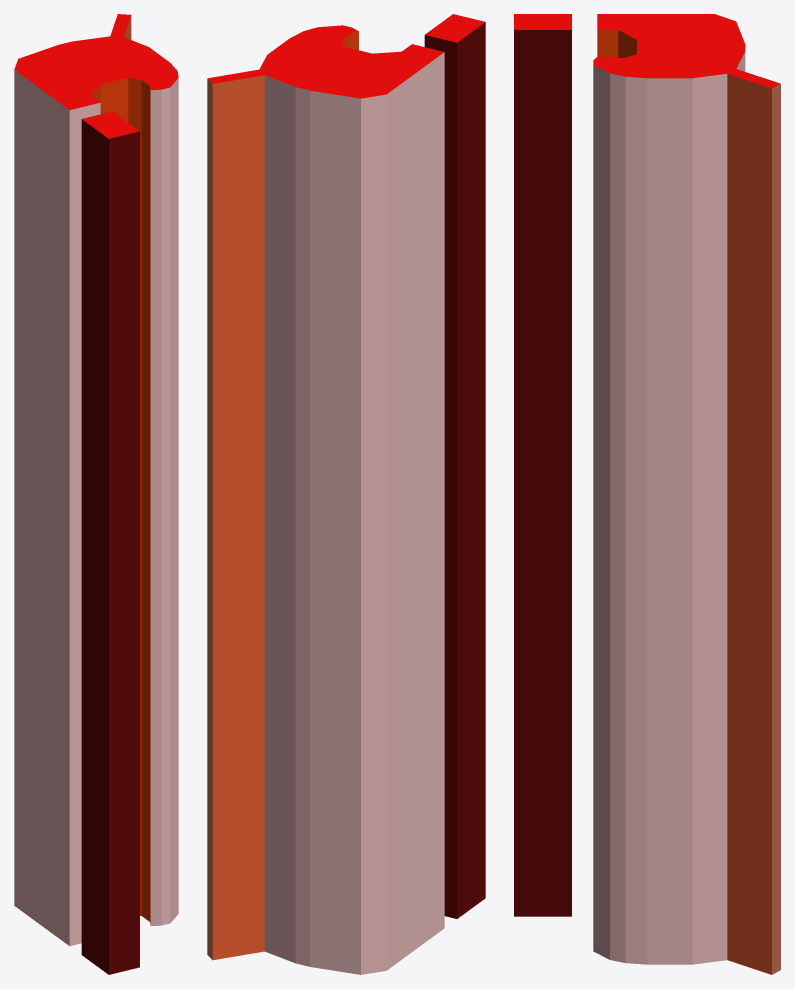
File: Playground1.fbx
3 views of the same model, side by side, from view 1: azimuth 30°, elevation 25°; view 2: azimuth 150°, elevation 25°; view 3: azimuth 270°, elevation 25° (orthographic). The views are drawn at different scales.
Parts seen in each view (by area): view 1: Model; view 2: Model; view 3: Model.
Boxes of the visible parts, bbox=[...] form: Model: bbox=[14, 14, 178, 974]; Model: bbox=[207, 14, 485, 974]; Model: bbox=[514, 14, 780, 974].
Size of the model in its own units: 232 by 1287 by 351.
